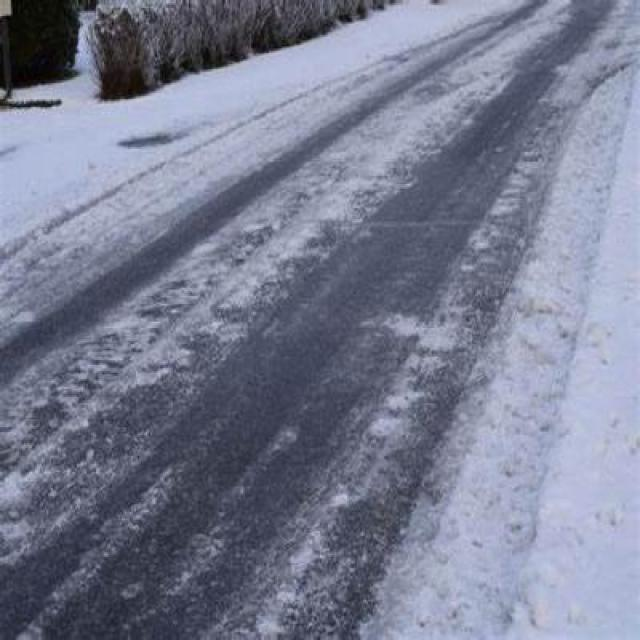ice-road: (0, 2, 624, 640)
